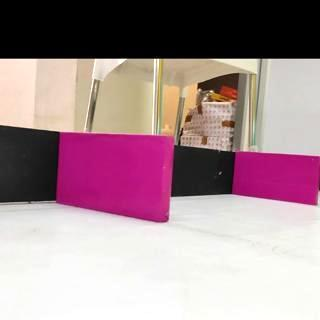xparking: (66, 134, 170, 213), (241, 157, 318, 201)
